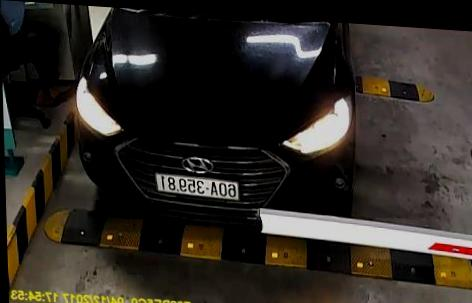License_Plate: (159, 176, 238, 201)
